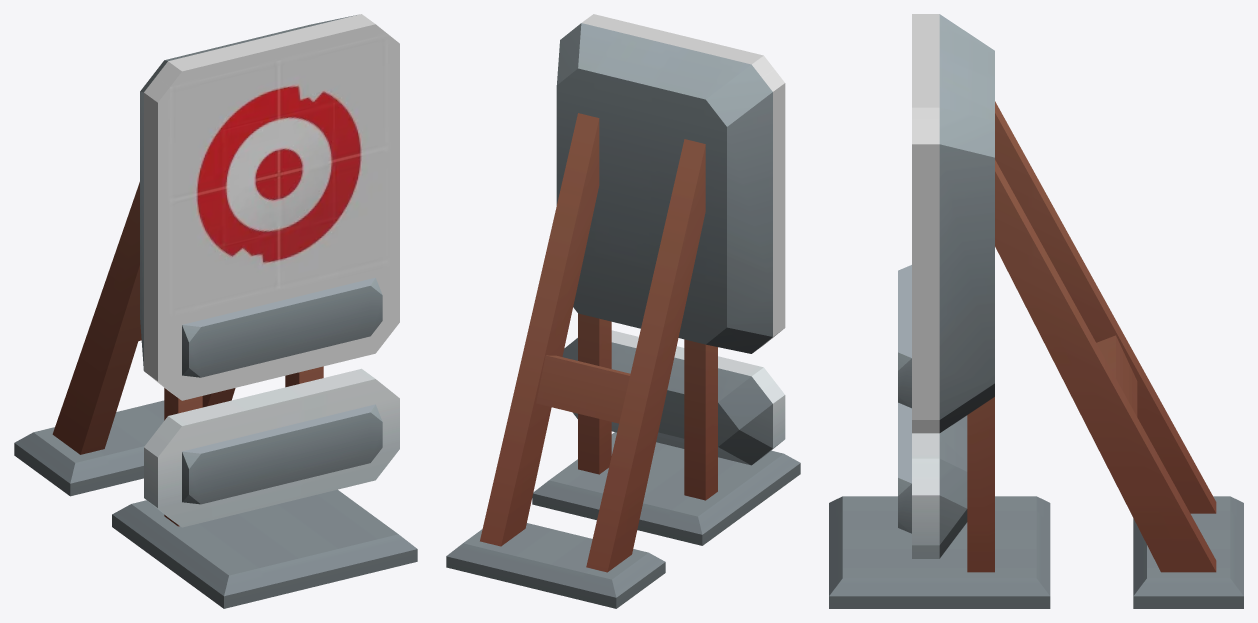
Rendered from kaykit-prototype-bits-target-stand-b.glb.
3 renders of one model, left to right at view 1: azimuth 30°, elevation 25°; view 2: azimuth 150°, elevation 25°; view 3: azimuth 270°, elevation 25°, orthographic. The views are drawn at different scales.
Visible parts, largest first — view 1: target_stand_B; view 2: target_stand_B; view 3: target_stand_B.
Part boxes in pixels (x1,y1,x2,y2): target_stand_B: (14, 14, 417, 608); target_stand_B: (446, 14, 800, 608); target_stand_B: (829, 14, 1243, 608).
Size of the model in its own units: 0.9998 by 2 by 1.5.
Materials: 1 (1 with a texture image).
